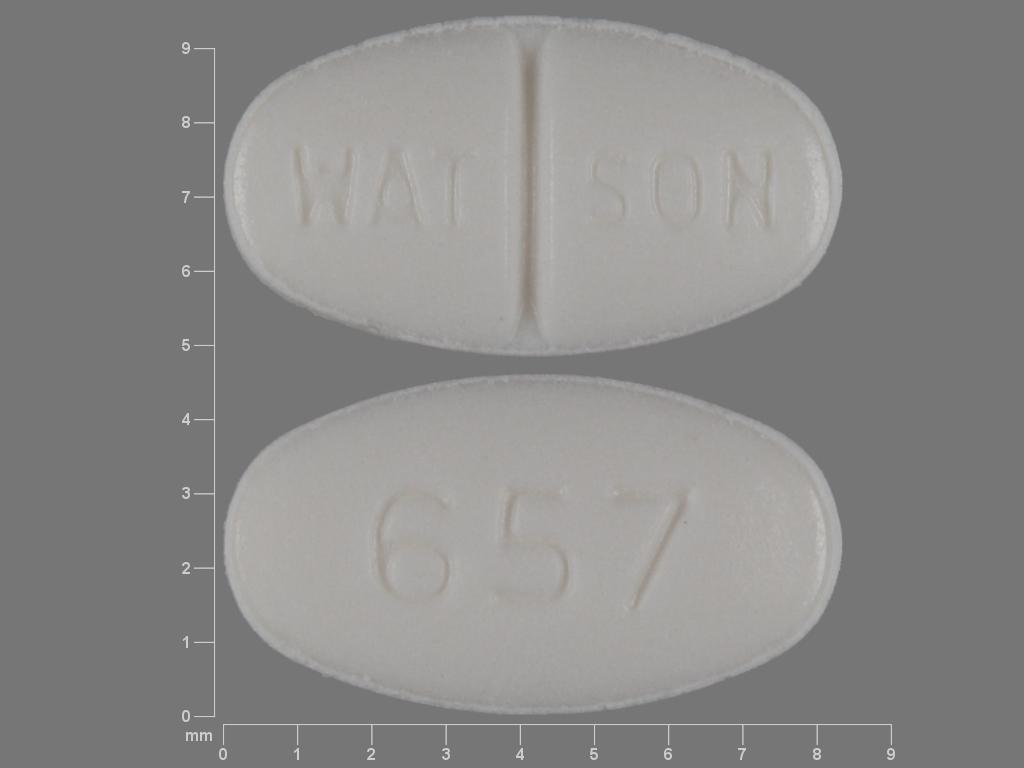Pill: (219, 365, 849, 721), (218, 9, 849, 364)
